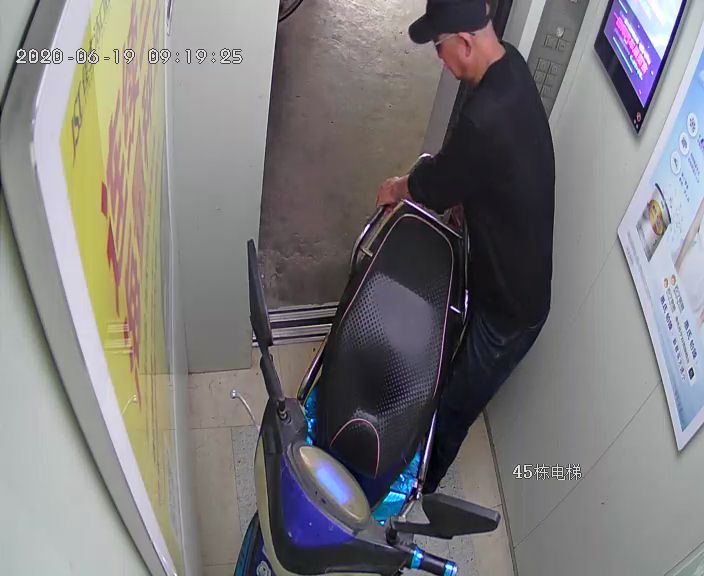Electric-bicycle: (228, 174, 505, 574)
